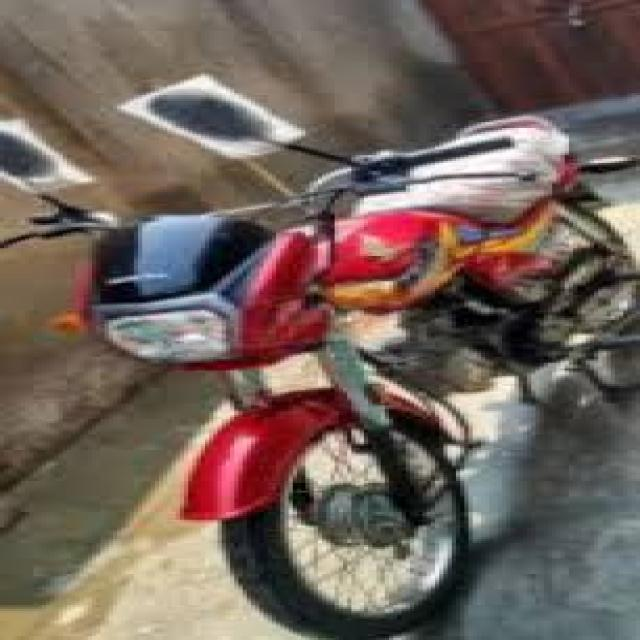motorcycle: (0, 74, 636, 632)
